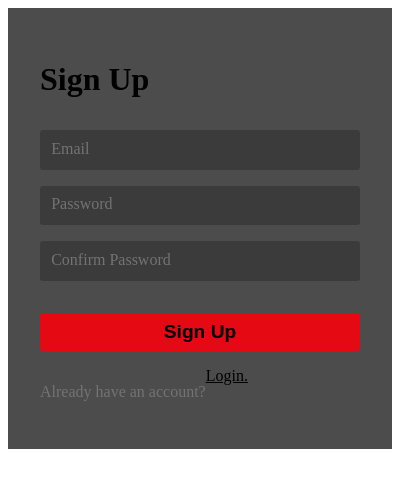
Test: SignUp Test › check is email error
Click the button with test id "sign-up". click: click(200, 332)
box: [40, 313, 360, 351]
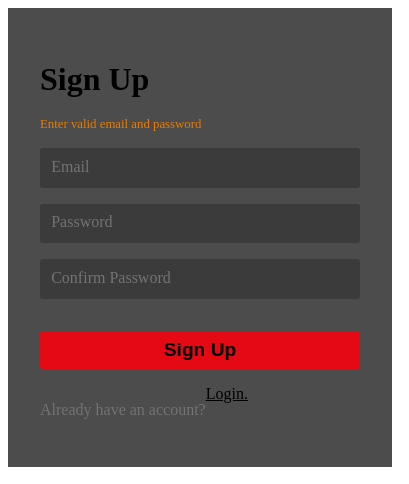
Expected: the text "Enter valid email and password" is shown, [40, 117, 201, 131]
